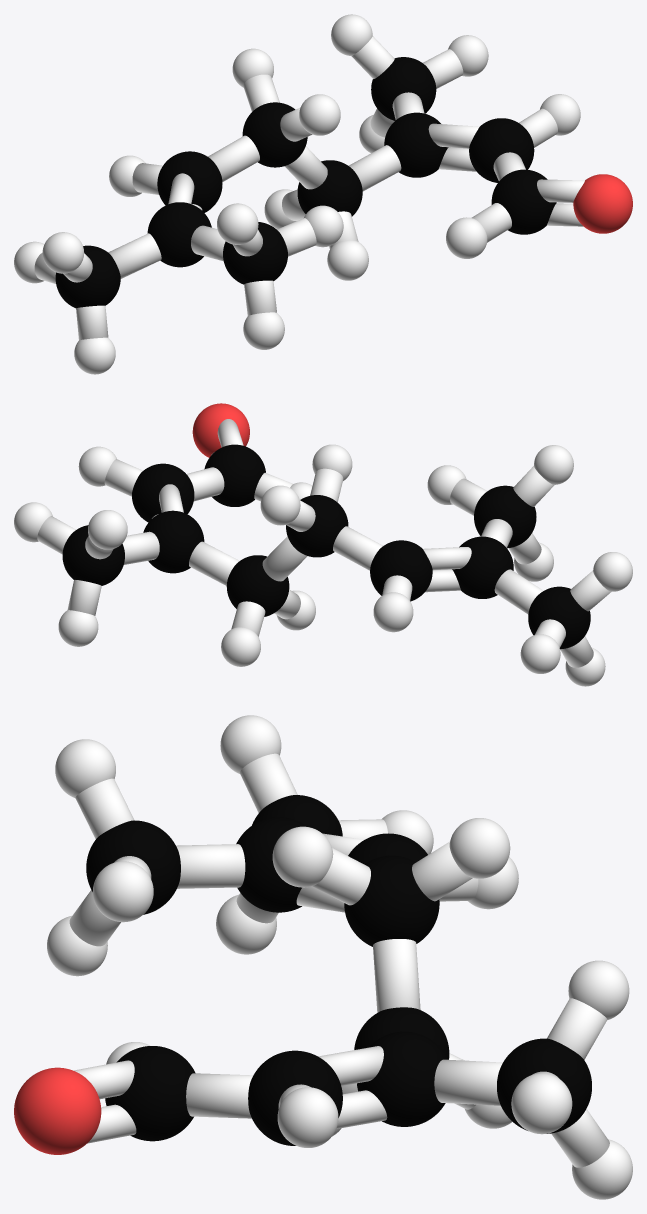
3 renders of one model, top to bottom at view 1: azimuth 30°, elevation 25°; view 2: azimuth 150°, elevation 25°; view 3: azimuth 270°, elevation 25°, orthographic. The views are drawn at different scales.
Visible parts, largest first — view 1: molecule; view 2: molecule; view 3: molecule.
Part boxes in pixels (x1,y1,x2,y2): molecule: (14, 14, 632, 374); molecule: (14, 403, 632, 686); molecule: (14, 715, 632, 1199).
Bounding box in the file's own units: 9.2 × 3.27 × 6.1.
